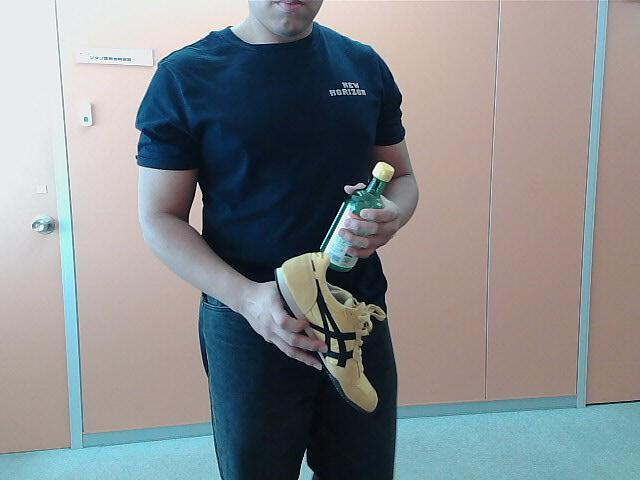Lemon_sapporo: (318, 156, 397, 276)
Shoes: (276, 252, 380, 413)
